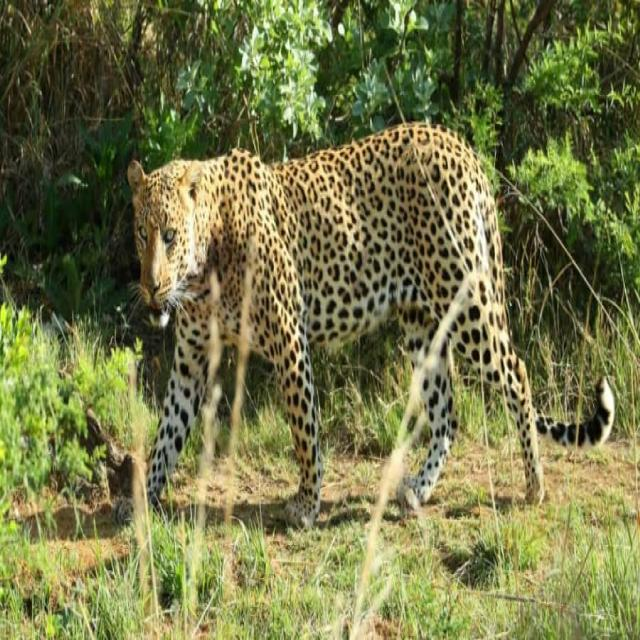Leopard: (125, 119, 613, 497)
